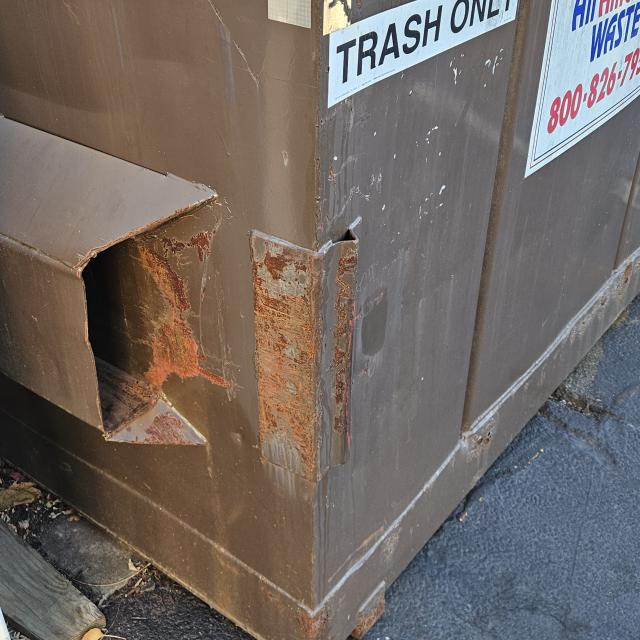Filiform Corrosion: (85, 202, 245, 454), (250, 221, 360, 500), (287, 580, 331, 640), (352, 582, 386, 639)
